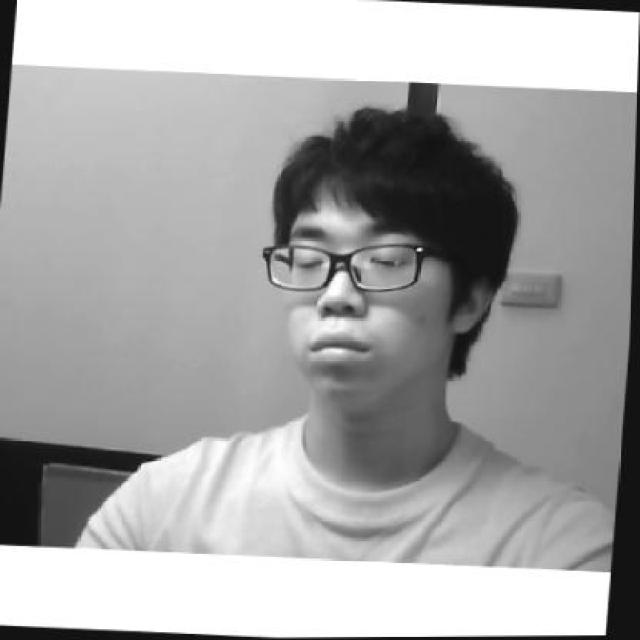inattentif: (248, 99, 508, 408)
